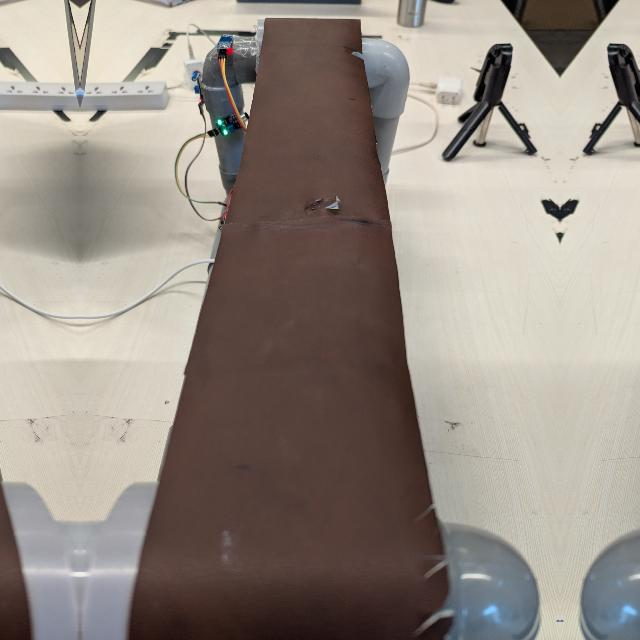joint_damage: (298, 188, 359, 219)
